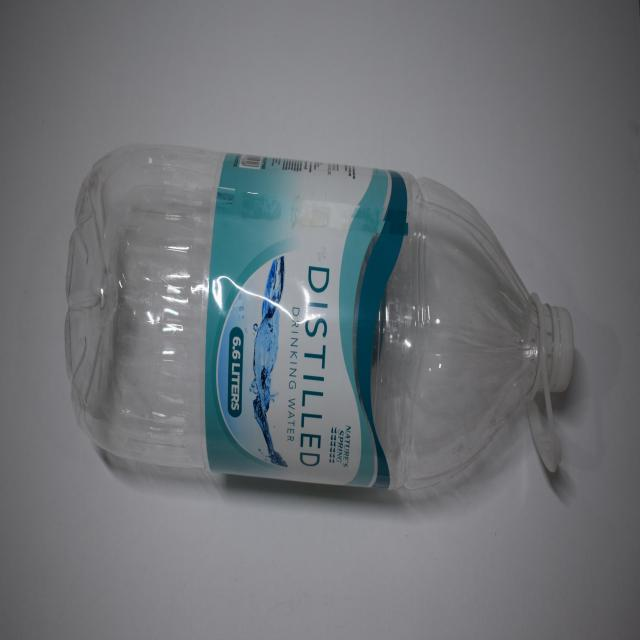plastic: (55, 136, 576, 514)
